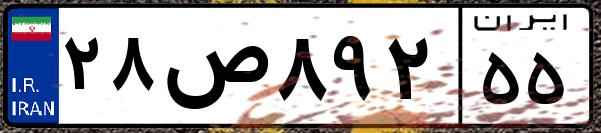2: (385, 28, 445, 110), (57, 26, 110, 100)
5: (475, 38, 525, 113), (525, 38, 570, 115)
8: (270, 28, 330, 110), (110, 28, 158, 98)
9: (330, 28, 385, 110)
ص: (158, 20, 270, 120)
